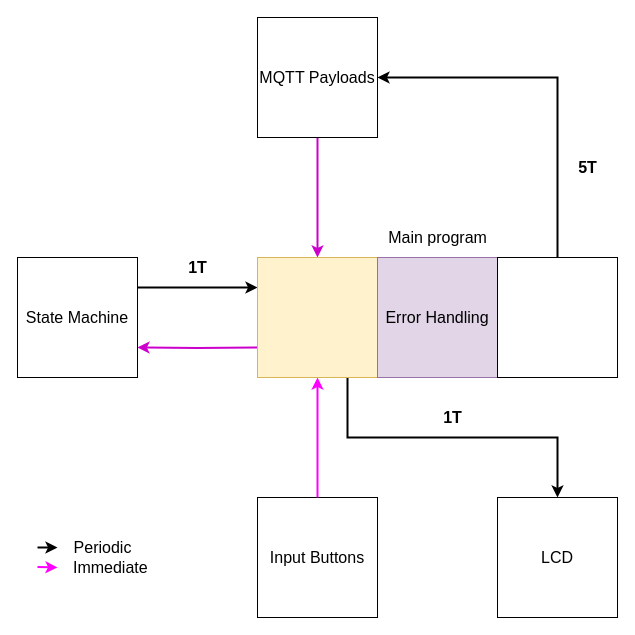
This 635x635 diagram has some shape labels left out. Each missing label, with the centre of its shape:
"Main Handlers" belongs at (x=317, y=317).
"Sampling" belongs at (x=557, y=317).
